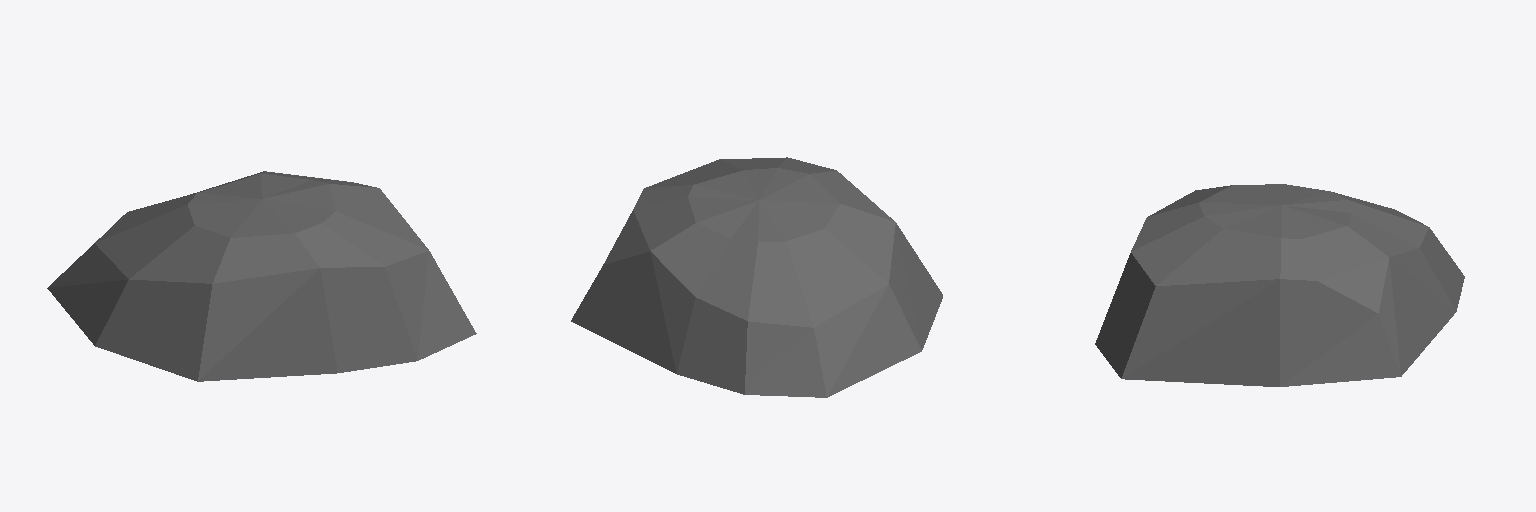
File: Stone_1.obj
The picture shows the model from 3 angles: view 1: azimuth 30°, elevation 25°; view 2: azimuth 150°, elevation 25°; view 3: azimuth 270°, elevation 25°; orthographic projection.
Parts seen in each view (by area): view 1: Box049; view 2: Box049; view 3: Box049.
Boxes of the visible parts, box(x1,y1,x2,y2) form: Box049: box(47, 171, 476, 381); Box049: box(571, 157, 942, 397); Box049: box(1095, 184, 1464, 386).
Size of the model in its own units: 1.54 by 0.5073 by 1.56.